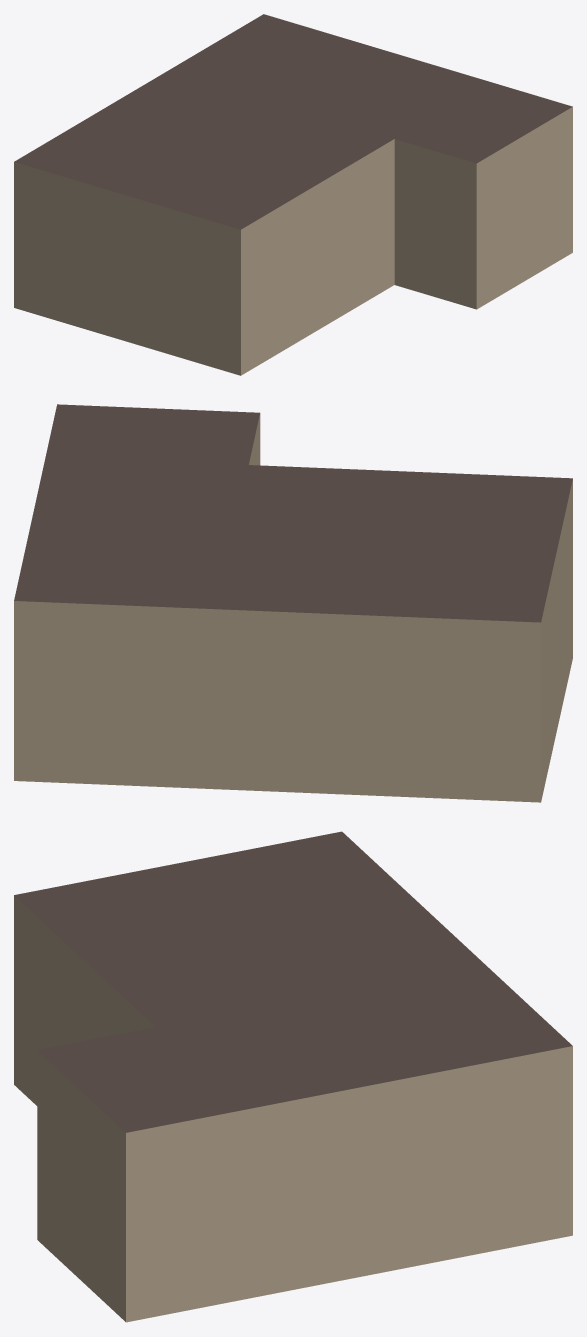
The picture shows the model from 3 angles, top to bottom: view 1: azimuth 30°, elevation 25°; view 2: azimuth 150°, elevation 25°; view 3: azimuth 270°, elevation 25°; orthographic projection. The views are drawn at different scales.
Visible parts, largest first — view 1: HP-w369342597; view 2: HP-w369342597; view 3: HP-w369342597.
Part boxes in pixels (x1,y1,x2,y2): HP-w369342597: (14, 14, 572, 375); HP-w369342597: (14, 404, 572, 802); HP-w369342597: (14, 831, 572, 1322).
Bounding box in the file's own units: 30.68 × 9 × 24.05.
